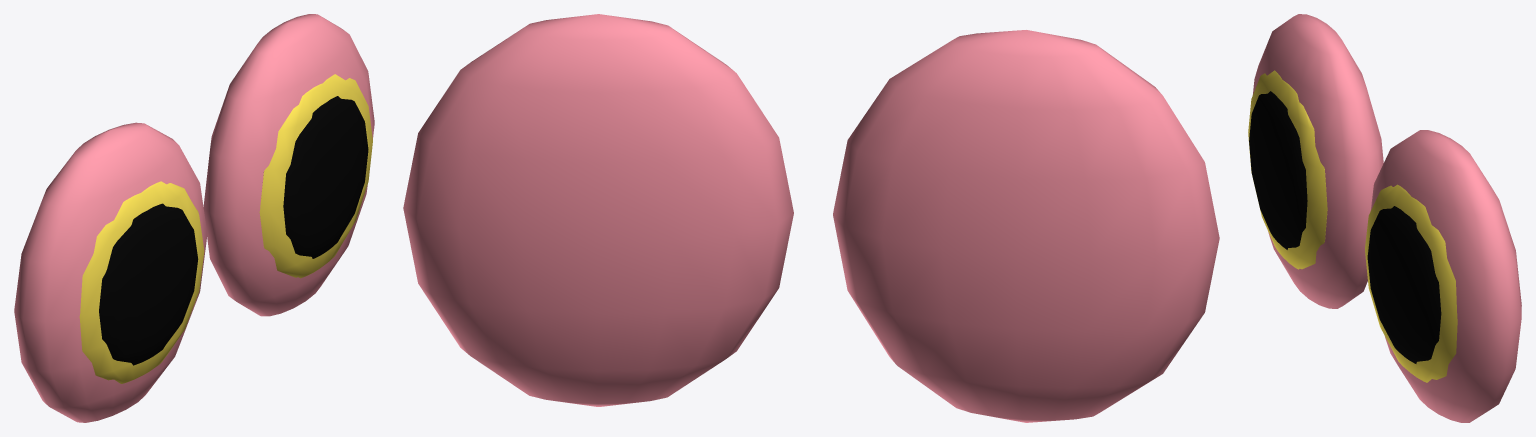
3 renders of one model, left to right at view 1: azimuth 30°, elevation 25°; view 2: azimuth 150°, elevation 25°; view 3: azimuth 270°, elevation 25°, orthographic. The views are drawn at different scales.
Visible parts, largest first — view 1: Sphere.001, Sphere_1.001, Sphere_2.001; view 2: Sphere.001; view 3: Sphere.001, Sphere_1.001, Sphere_2.001.
Part boxes in pixels (<box>): Sphere.001: <box>14,14,374,422</box>; Sphere_1.001: <box>99,96,368,365</box>; Sphere_2.001: <box>79,74,372,383</box>; Sphere.001: <box>403,14,1219,422</box>; Sphere.001: <box>1253,14,1521,422</box>; Sphere_1.001: <box>1249,91,1441,363</box>; Sphere_2.001: <box>1248,70,1457,382</box>.
Size of the model in its own units: 68.78 by 36.24 by 40.17.
